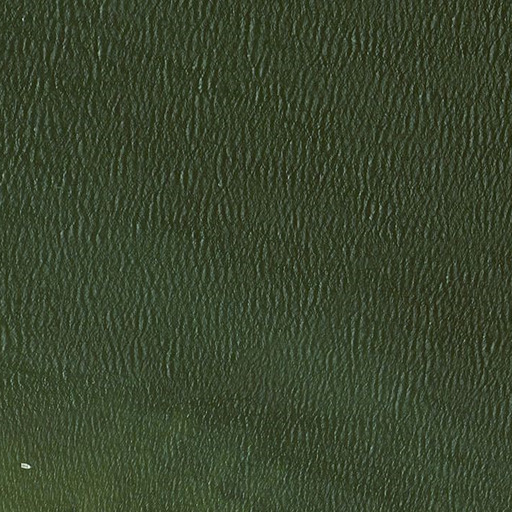ship: (18, 461, 32, 470)
